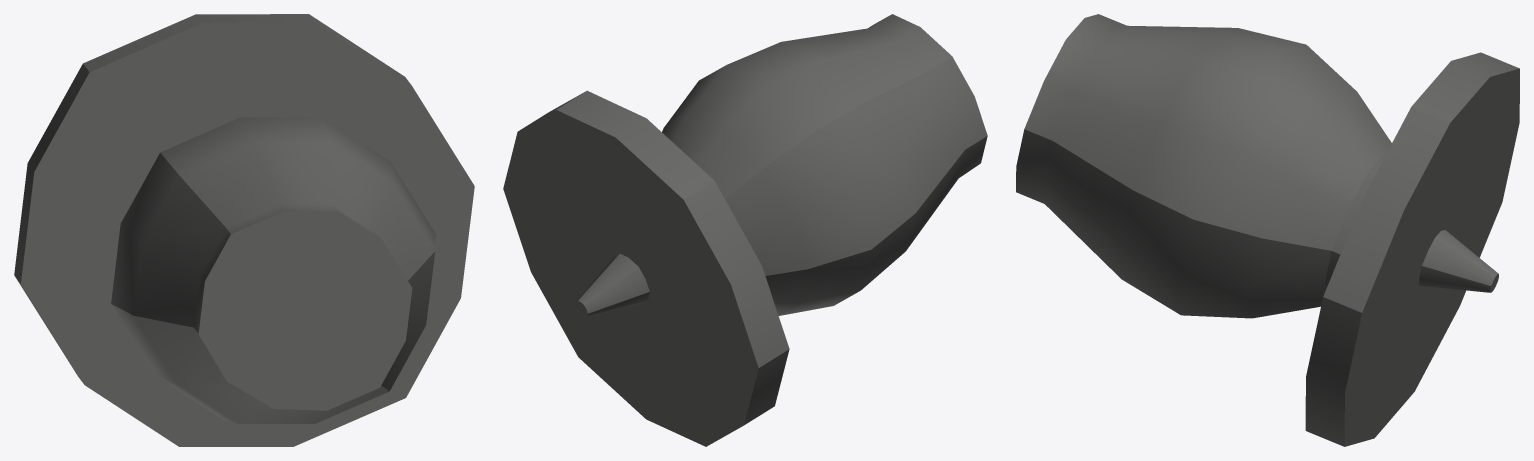
File: FountainPiece1.fbx
The picture shows the model from 3 angles, left to right: view 1: azimuth 30°, elevation 25°; view 2: azimuth 150°, elevation 25°; view 3: azimuth 270°, elevation 25°; orthographic projection. The views are drawn at different scales.
Visible parts, largest first — view 1: FountainPiece01; view 2: FountainPiece01; view 3: FountainPiece01.
Part boxes in pixels (bbox=[...]): FountainPiece01: bbox=[14, 14, 474, 446]; FountainPiece01: bbox=[503, 14, 987, 446]; FountainPiece01: bbox=[1016, 14, 1519, 446].
Size of the model in its own units: 27.46 by 24.71 by 31.45.
